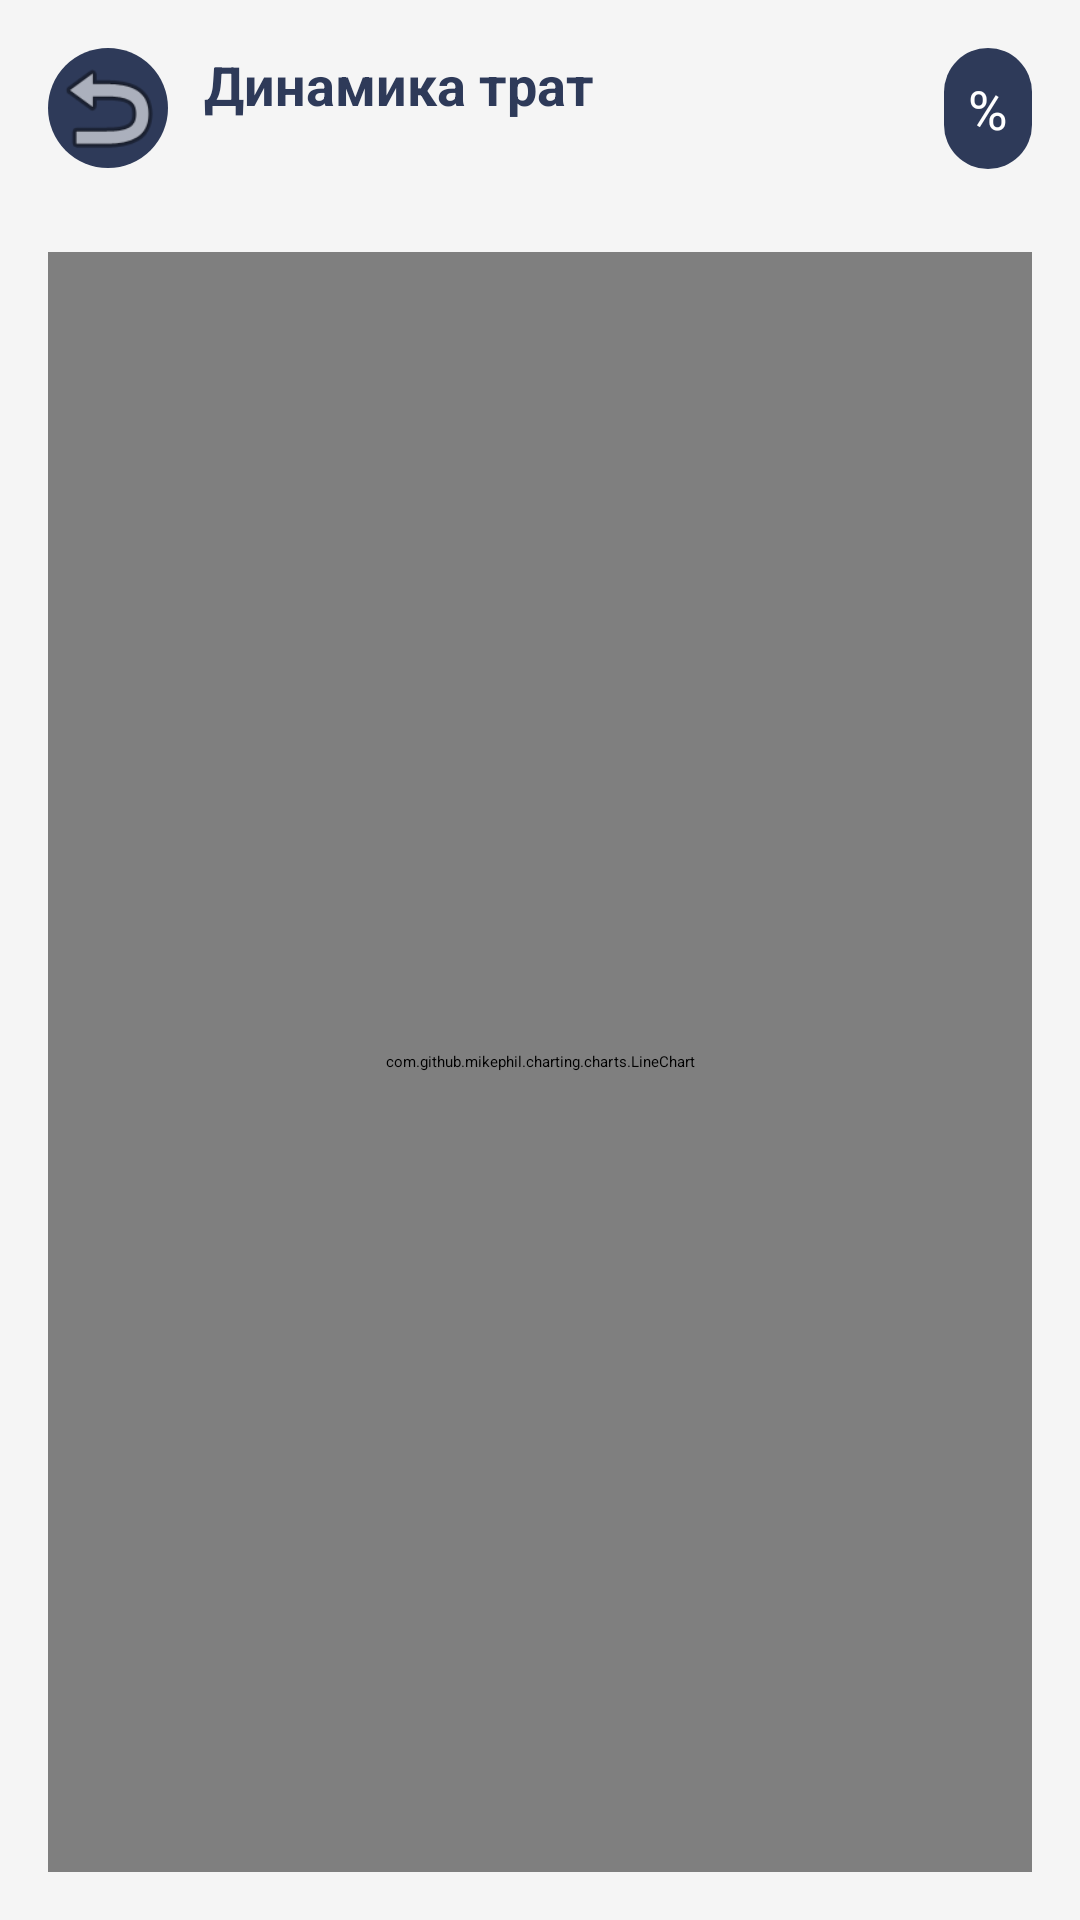

Locate icon controls on the screen. Image size 1080×1920, boxes as box(x1, y1, x2, y2).
revert: box(48, 48, 168, 168)
